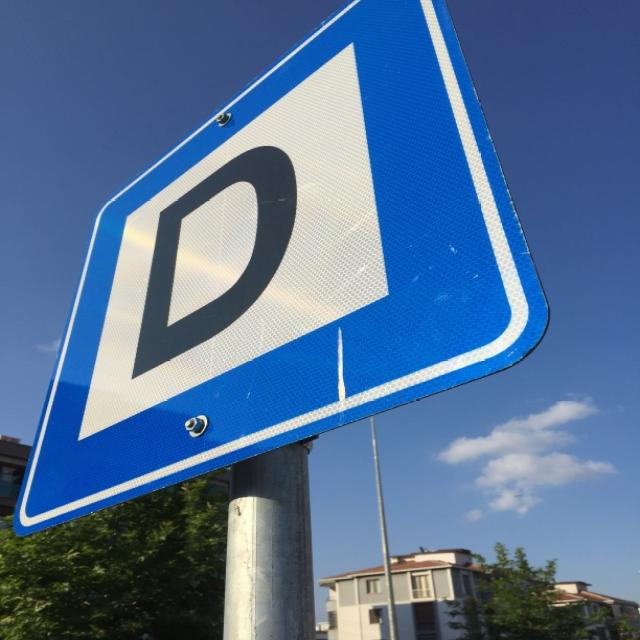durak: (11, 4, 556, 541)
